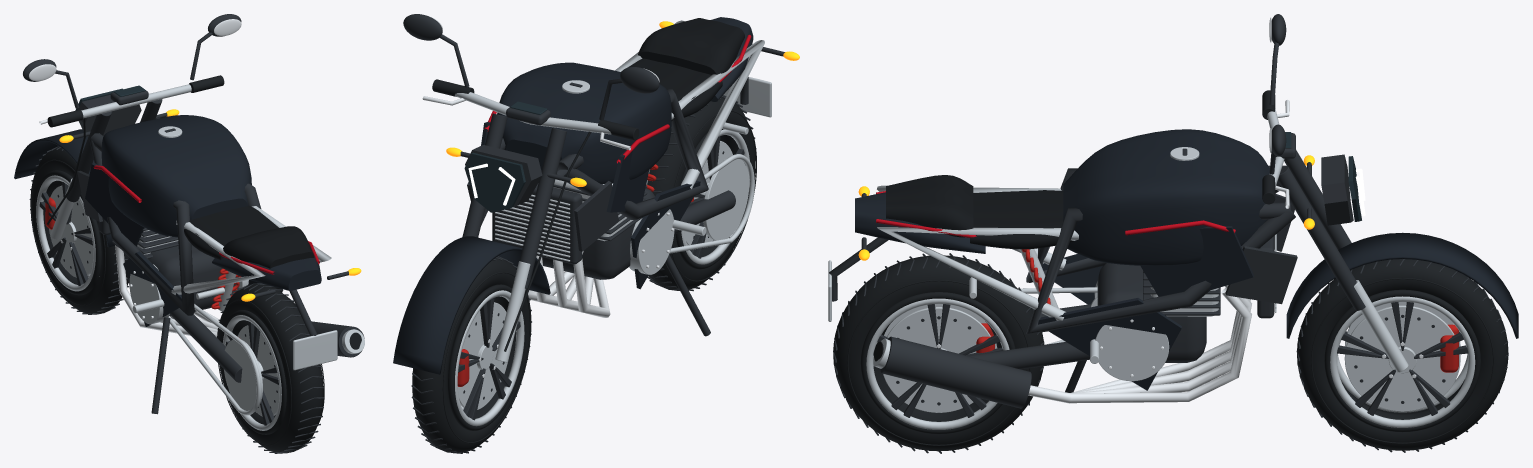
Rendered from inspection-motorcycle.glb.
3 renders of one model, left to right at view 1: azimuth 30°, elevation 25°; view 2: azimuth 150°, elevation 25°; view 3: azimuth 270°, elevation 25°, orthographic. The views are drawn at different scales.
Visible parts, largest first — view 1: Depósito de combustible.001, Neumático trasero.001, Neumático delantero.001, Bastidor tubular.002, Asiento pasajero.001, Asiento piloto.001, Colín.001, Bloque motor.001, Panel lateral metálico.002, Guardabarros delantero.001, Piñón de transmisión.002, Basculante.002 (+31 smaller); view 2: Depósito de combustible.001, Guardabarros delantero.001, Neumático delantero.001, Neumático trasero.001, Asiento pasajero.001, Horquilla superior.002, Radiador.001, Bastidor tubular.002, Subchasis trasero.002, Colector de escape.004, Lente de faro.001, Piñón de transmisión.002 (+33 smaller); view 3: Depósito de combustible.001, Neumático delantero.001, Neumático trasero.001, Disco de freno delantero.002, Colector de escape.004, Guardabarros delantero.001, Bastidor tubular.002, Silenciador.001, Disco de freno trasero.002, Asiento piloto.001, Asiento pasajero.001, Panel lateral metálico.003 (+23 smaller).
Boxes of the visible parts, x1,y1,x2,y2 form: Depósito de combustible.001: [101, 115, 251, 237]; Neumático trasero.001: [218, 284, 323, 452]; Neumático delantero.001: [30, 146, 128, 313]; Bastidor tubular.002: [89, 117, 282, 315]; Asiento pasajero.001: [223, 226, 314, 268]; Asiento piloto.001: [184, 205, 278, 259]; Colín.001: [212, 256, 321, 290]; Bloque motor.001: [127, 244, 237, 315]; Panel lateral metálico.002: [85, 163, 144, 246]; Guardabarros delantero.001: [14, 129, 114, 247]; Piñón de transmisión.002: [170, 316, 262, 410]; Basculante.002: [170, 287, 242, 382]; Depósito de combustible.001: [497, 62, 671, 183]; Guardabarros delantero.001: [393, 236, 550, 374]; Neumático delantero.001: [412, 256, 531, 452]; Neumático trasero.001: [647, 95, 755, 290]; Asiento pasajero.001: [638, 18, 744, 74]; Horquilla superior.002: [462, 113, 566, 288]; Radiador.001: [492, 184, 582, 264]; Bastidor tubular.002: [500, 89, 708, 219]; Subchasis trasero.002: [615, 20, 764, 189]; Colector de escape.004: [528, 251, 610, 317]; Lente de faro.001: [464, 152, 525, 212]; Piñón de transmisión.002: [703, 158, 749, 240]; Depósito de combustible.001: [1063, 129, 1269, 265]; Neumático delantero.001: [1297, 259, 1508, 450]; Neumático trasero.001: [833, 255, 1044, 451]; Disco de freno delantero.002: [1344, 302, 1460, 411]; Colector de escape.004: [1028, 285, 1251, 403]; Guardabarros delantero.001: [1286, 232, 1518, 338]; Bastidor tubular.002: [1026, 165, 1295, 334]; Silenciador.001: [880, 336, 1031, 408]; Disco de freno trasero.002: [883, 304, 996, 412]; Asiento piloto.001: [970, 190, 1073, 249]; Asiento pasajero.001: [886, 175, 973, 237]; Panel lateral metálico.003: [1140, 226, 1253, 296].
Size of the model in its own units: 0.99 by 1.34 by 2.22.
